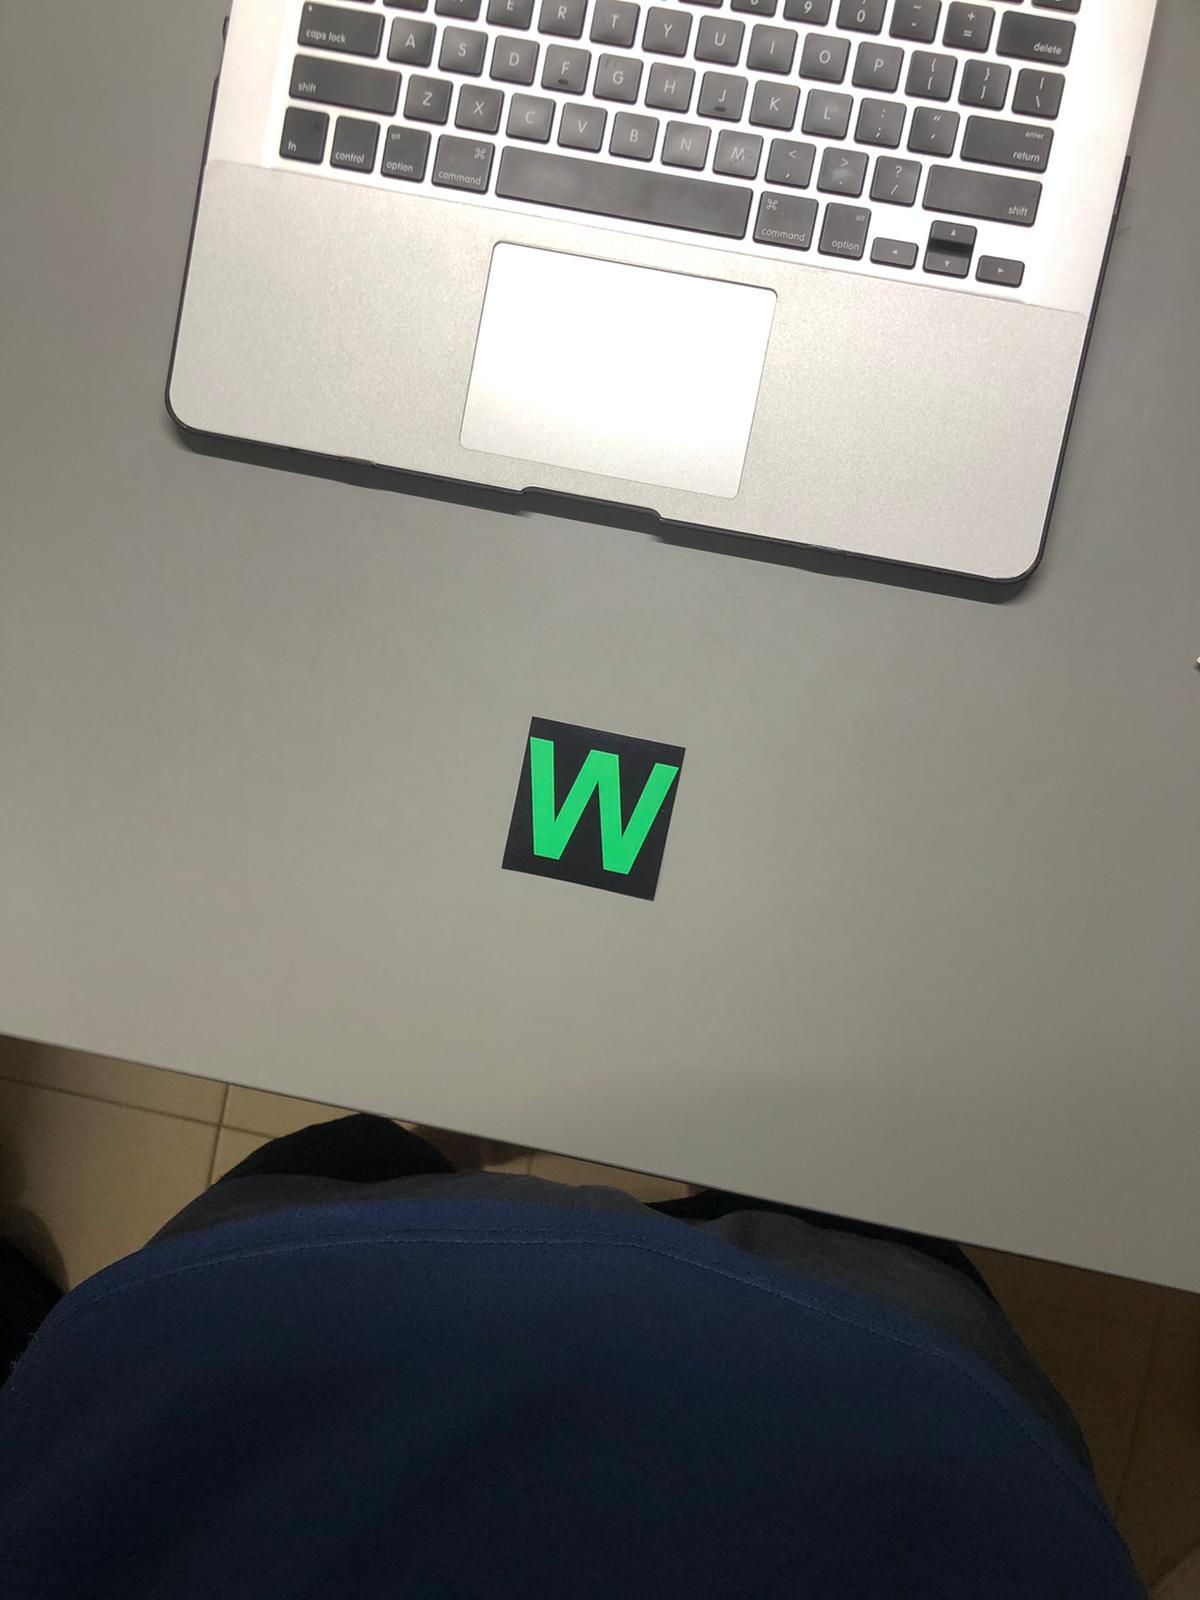W: (511, 712, 684, 894)
